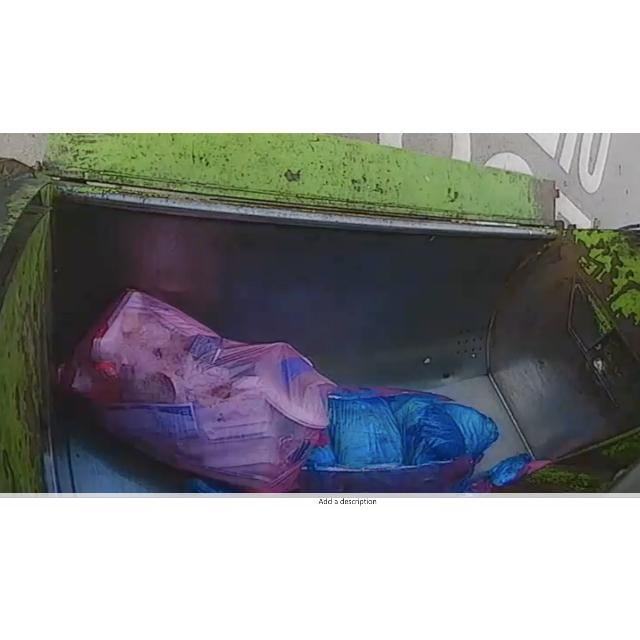other_trashbag: (62, 288, 337, 492), (300, 387, 499, 492)
